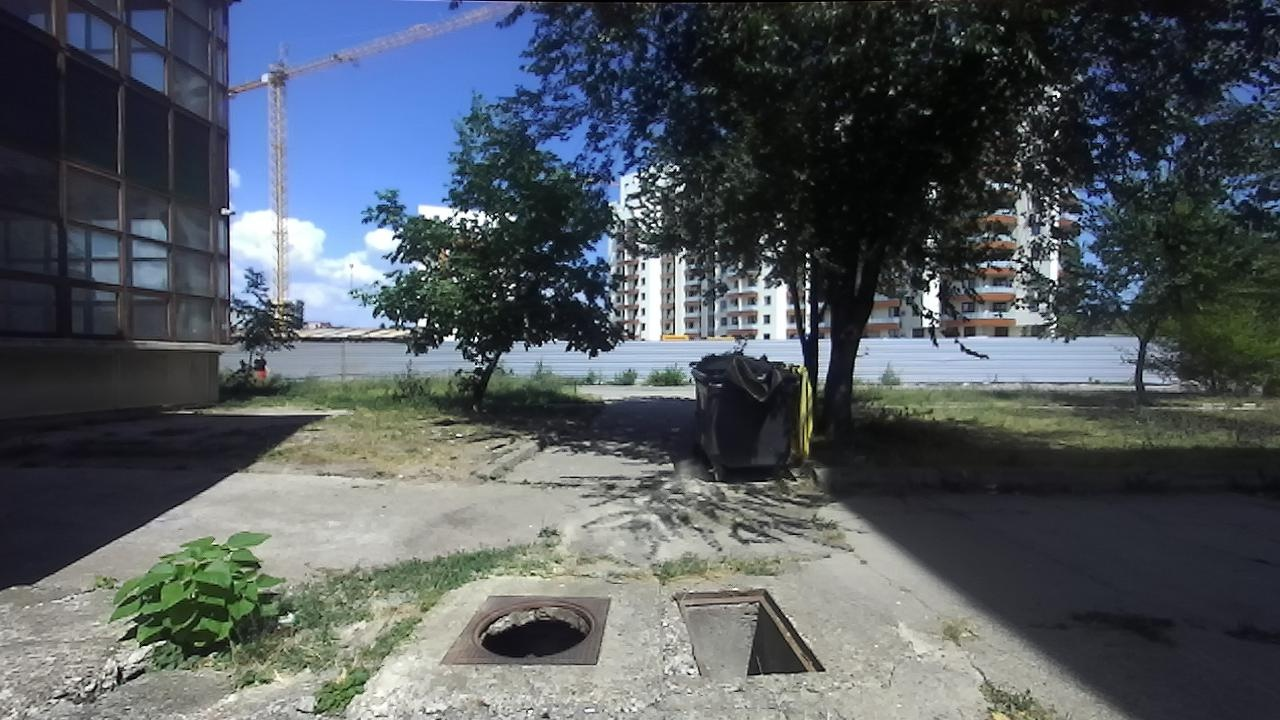drain: (671, 581, 831, 676), (470, 598, 598, 664)
